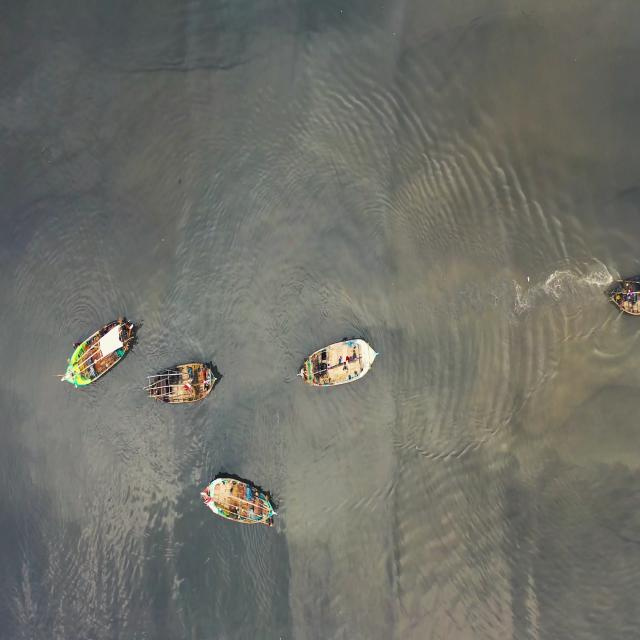ship: (61, 313, 140, 387), (292, 337, 386, 390), (200, 471, 279, 532), (144, 361, 220, 405), (606, 276, 638, 318)
